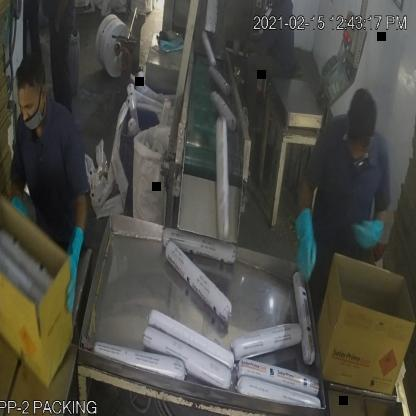glove: (58, 213, 86, 321), (292, 206, 323, 289)
no_glove: (230, 30, 274, 72)
